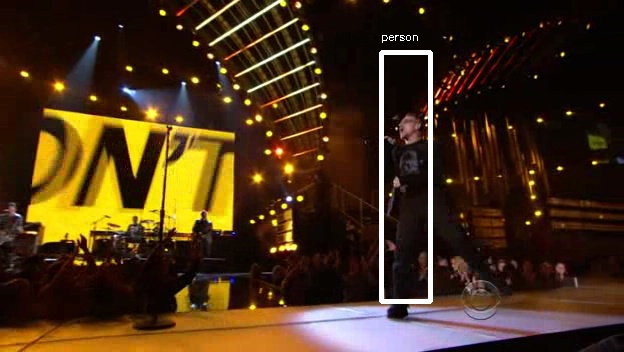person: (385, 113, 451, 224), (382, 113, 448, 224), (388, 113, 454, 224), (385, 110, 451, 221), (385, 116, 451, 227)
target_negative: (34, 67, 616, 314), (20, 201, 545, 300), (242, 58, 422, 325), (382, 253, 598, 332), (301, 210, 560, 267), (507, 142, 594, 294)
